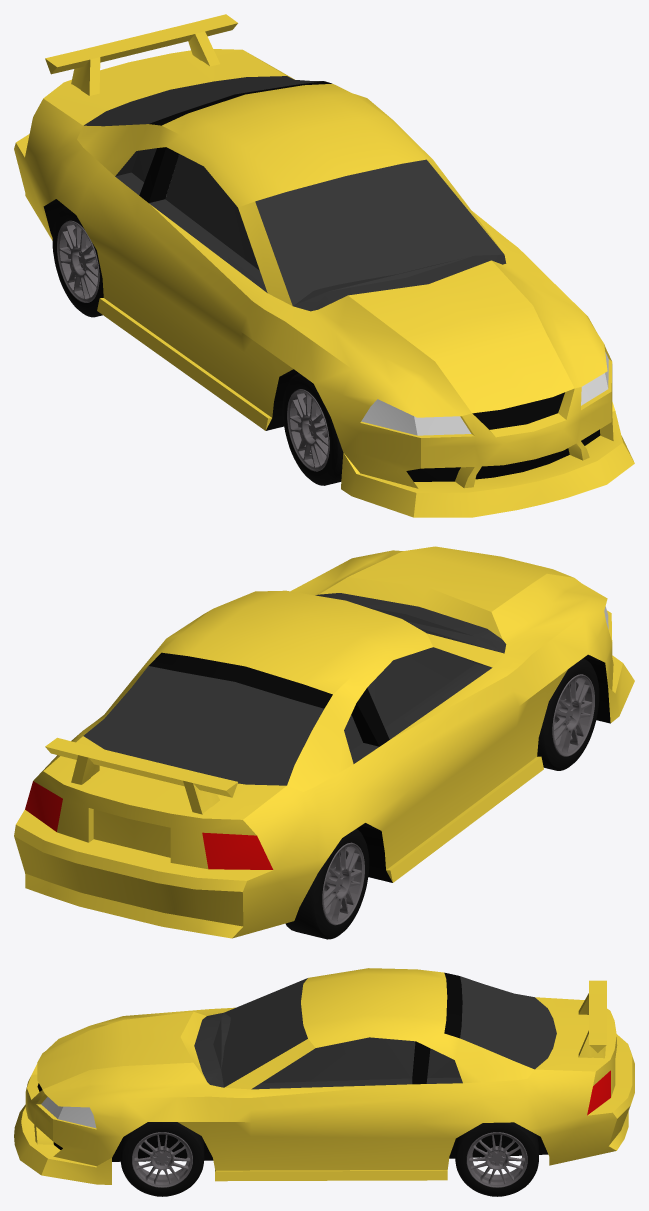
The model's file is MUSTANG (6).fbx.
The picture shows the model from 3 angles, top to bottom: view 1: azimuth 30°, elevation 25°; view 2: azimuth 150°, elevation 25°; view 3: azimuth 270°, elevation 25°; orthographic projection. The views are drawn at different scales.
Visible parts, largest first — view 1: Cube, R Wheels, R Wheels.001; view 2: Cube, R Wheels.001, R Wheels; view 3: Cube, R Wheels, R Wheels.001.
Boxes of the visible parts, x1,y1,x2,y2 form: Cube: (14,14,634,517); R Wheels: (282,373,343,485); R Wheels.001: (52,206,103,317); Cube: (14,546,634,938); R Wheels.001: (285,828,369,939); R Wheels: (537,658,599,770); Cube: (14,968,634,1184); R Wheels: (120,1122,204,1196); R Wheels.001: (455,1122,538,1196).
Size of the model in its own units: 744 by 528 by 1858.
